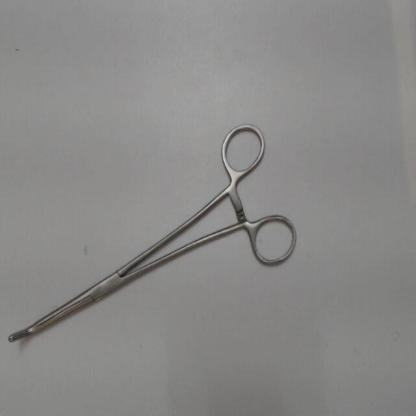Lahey Forceps: (4, 118, 303, 350)
